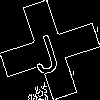J: (25, 25, 63, 76)
